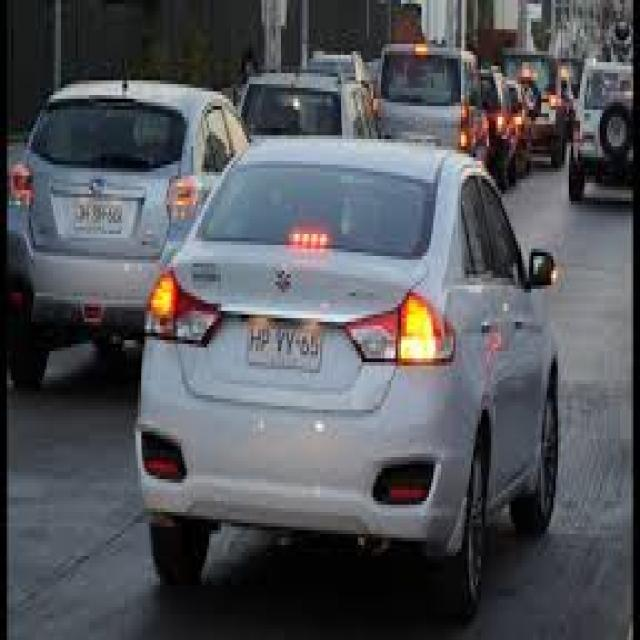patente: (245, 318, 322, 373)
